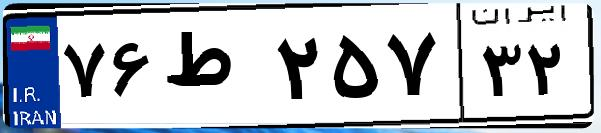2: (270, 28, 330, 110), (525, 38, 570, 115)
3: (475, 38, 525, 113)
5: (330, 28, 385, 110)
6: (110, 28, 158, 98)
7: (385, 28, 445, 110), (57, 26, 110, 100)
ط: (158, 20, 270, 120)
